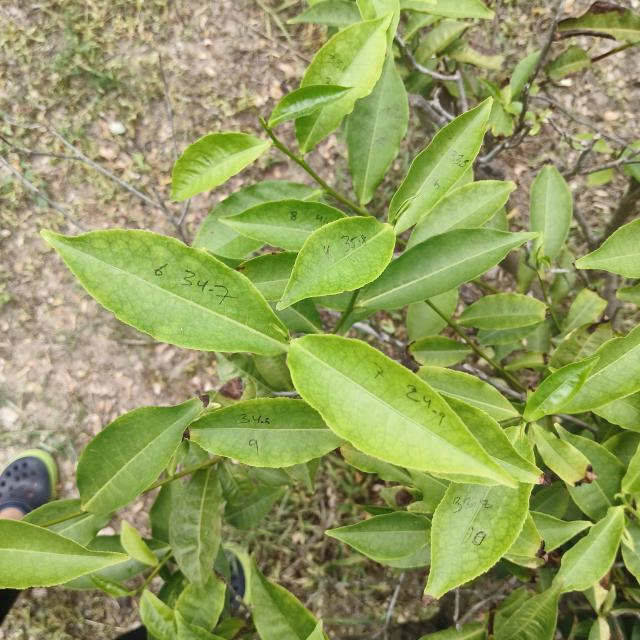Leaf: (292, 336, 515, 487), (425, 464, 541, 598), (76, 398, 204, 516), (356, 228, 537, 309), (388, 99, 490, 234), (295, 12, 391, 154), (277, 216, 395, 310), (189, 398, 343, 467), (193, 180, 321, 259), (346, 57, 409, 205), (0, 519, 128, 589), (407, 180, 515, 249), (170, 133, 271, 201), (563, 326, 640, 413), (221, 199, 347, 251), (169, 465, 221, 588), (559, 427, 626, 521), (553, 506, 625, 591), (416, 366, 519, 422), (251, 559, 316, 640), (325, 511, 431, 560), (523, 357, 599, 422), (530, 424, 597, 486), (530, 164, 572, 261), (575, 219, 640, 278), (495, 583, 561, 640), (558, 0, 640, 44), (268, 85, 352, 127), (458, 293, 546, 329), (175, 570, 226, 631), (340, 443, 412, 484), (556, 289, 606, 343), (529, 511, 592, 553), (224, 485, 284, 529), (414, 21, 467, 64), (288, 0, 362, 28), (149, 480, 182, 542), (409, 336, 470, 367), (140, 590, 177, 640), (400, 0, 494, 19), (218, 459, 255, 506), (207, 377, 256, 412), (120, 521, 158, 566), (406, 301, 447, 342), (530, 481, 572, 519), (546, 46, 591, 80), (175, 611, 225, 640), (254, 355, 294, 391), (510, 51, 540, 99), (284, 458, 320, 492), (419, 622, 485, 640), (505, 426, 534, 463), (89, 573, 133, 597), (251, 467, 293, 486), (432, 289, 458, 318), (492, 104, 514, 136), (478, 78, 501, 103)
